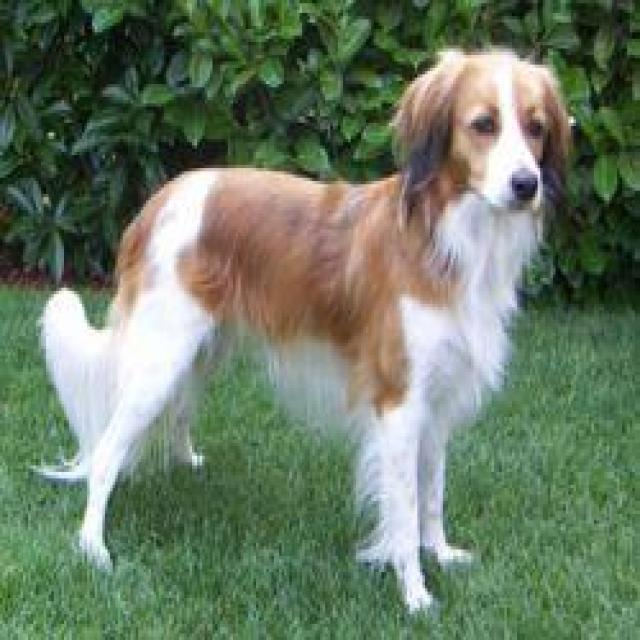blenheim_spaniel: (39, 45, 568, 618)
